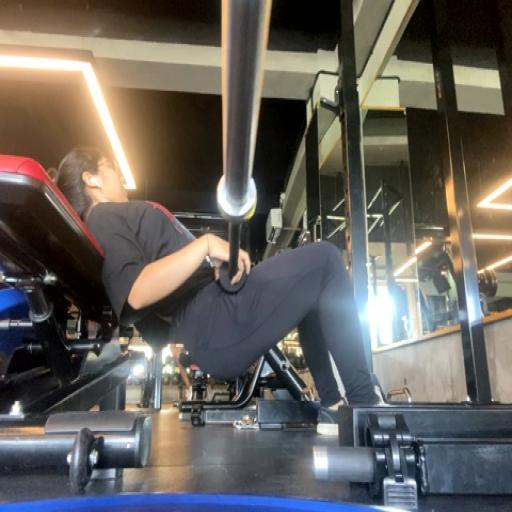exercise: (54, 142, 392, 414)
